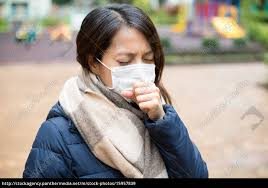mask: (83, 11, 164, 104)
